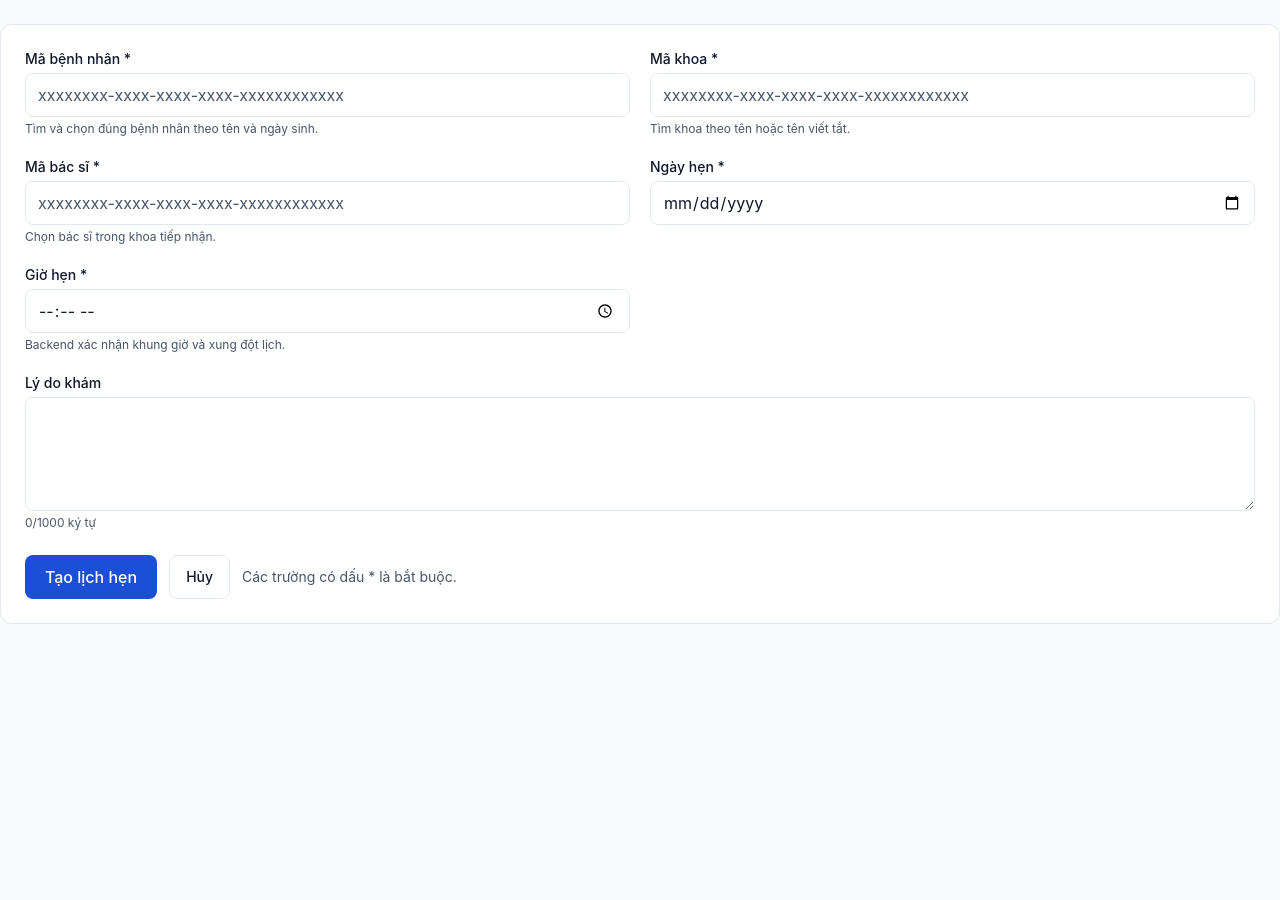
Appointment forms › shows required appointment fields before making a create request
Click the button "Tạo lịch hẹn" at x=91, y=577, box [25,555,157,599]
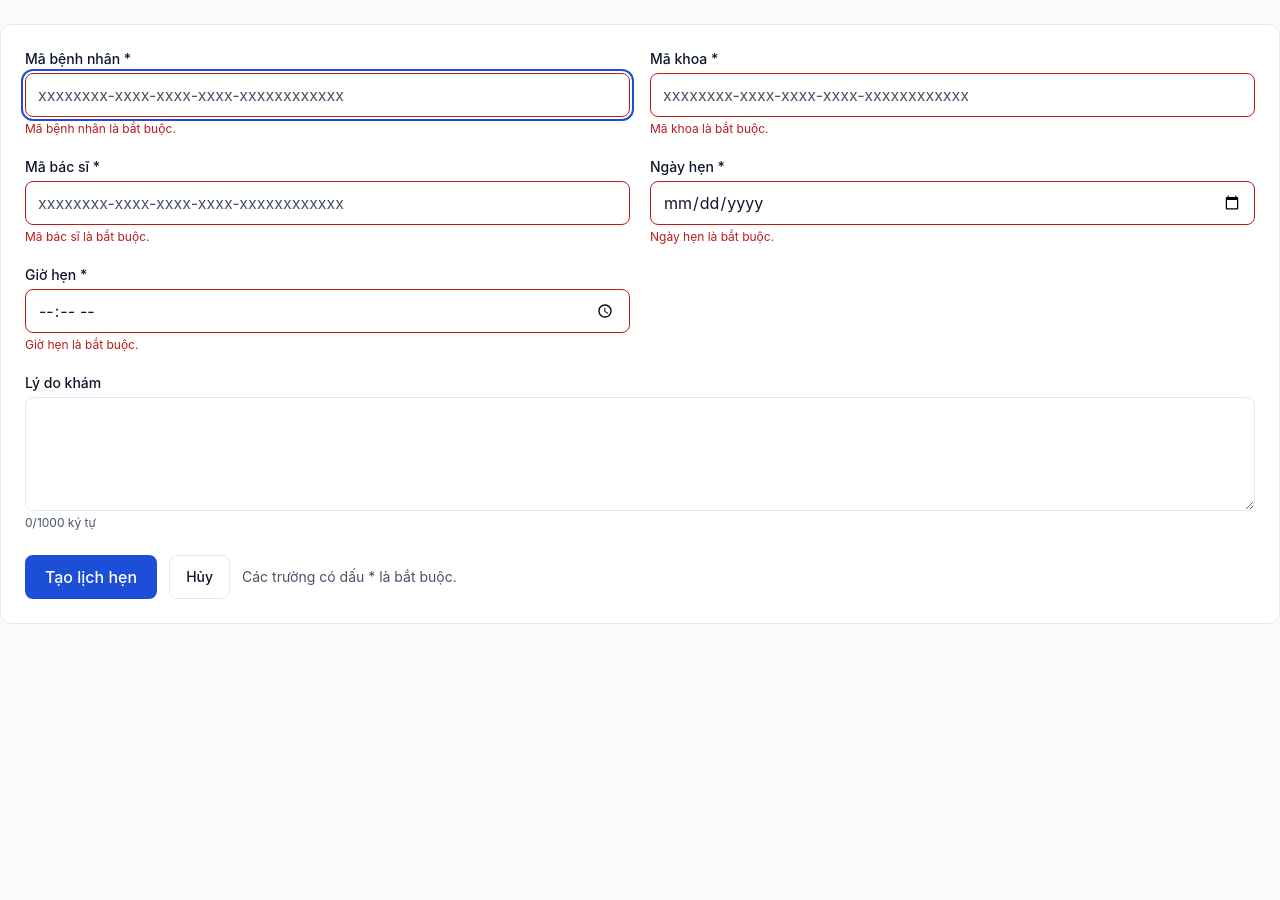
Expected: the text "Mã bệnh nhân là bắt buộc." is shown, [25,121,176,136]
Expected: the text "Ngày hẹn là bắt buộc." is shown, [650,229,774,244]
